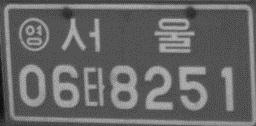0: (17, 63, 46, 108)
1: (213, 66, 243, 112)
2: (143, 64, 174, 110)
5: (177, 65, 208, 111)
6: (51, 63, 80, 109)
8: (108, 64, 138, 109)
서울_D: (59, 16, 195, 54)
영: (17, 17, 49, 52)
타: (81, 65, 106, 107)
